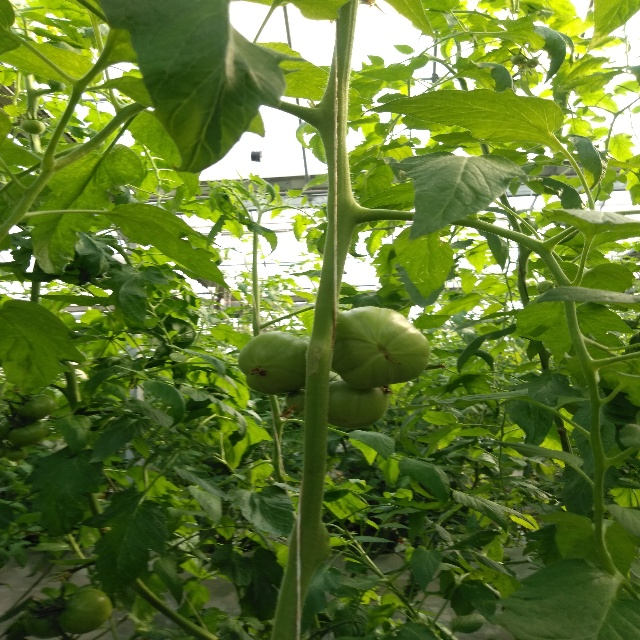b_green: (330, 307, 430, 389), (238, 331, 309, 396), (328, 379, 389, 428), (60, 588, 111, 634), (24, 597, 68, 639), (9, 419, 48, 447), (19, 394, 57, 421), (285, 387, 305, 410), (21, 119, 45, 136)
